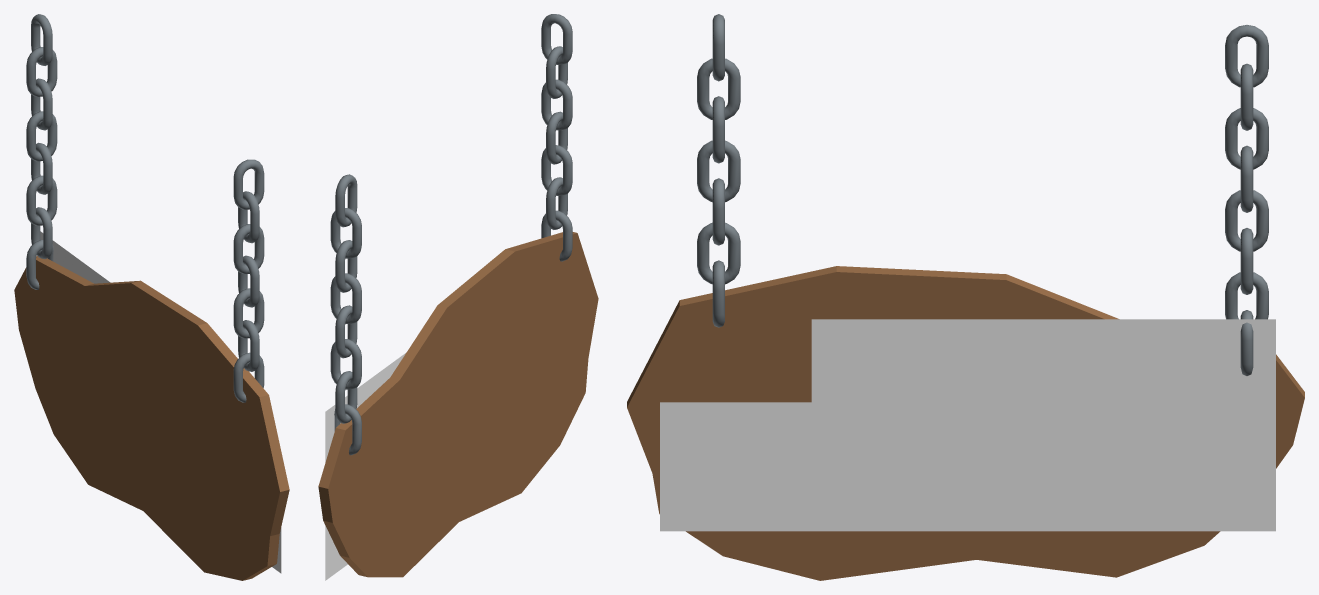
File: SignShop.fbx
The picture shows the model from 3 angles, left to right: view 1: azimuth 30°, elevation 25°; view 2: azimuth 150°, elevation 25°; view 3: azimuth 270°, elevation 25°; orthographic projection. The views are drawn at different scales.
Parts seen in each view (by area): view 1: SignShop; view 2: SignShop; view 3: SignShop.
Boxes of the visible parts, <box> form: SignShop: <box>14,14,289,580</box>; SignShop: <box>318,14,598,580</box>; SignShop: <box>627,14,1304,580</box>.
Size of the model in its own units: 14.22 by 201 by 220.
3 materials, 3 textured.
